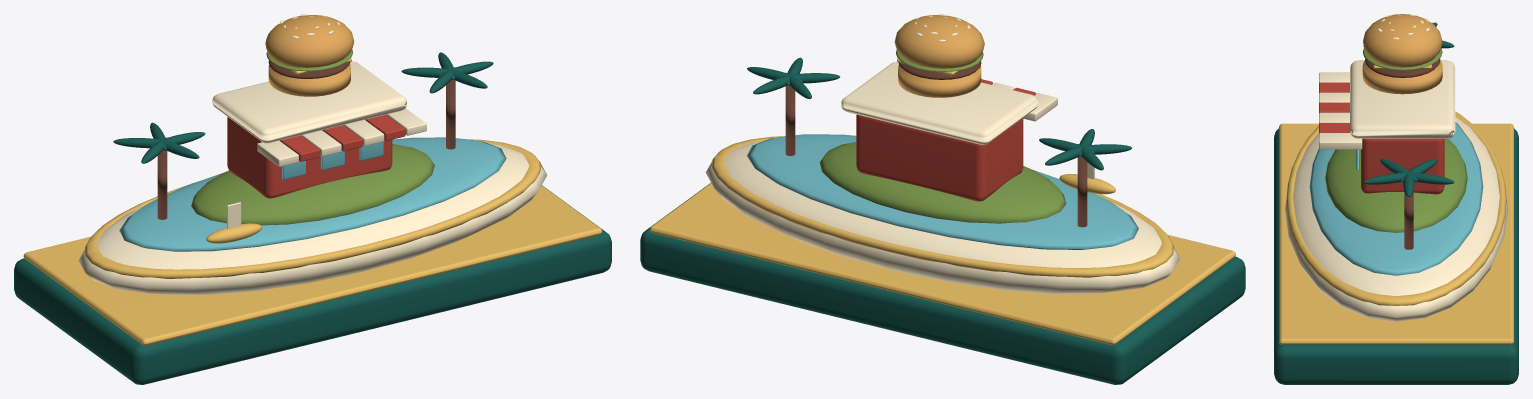
3 views of the same model, side by side, from view 1: azimuth 30°, elevation 25°; view 2: azimuth 150°, elevation 25°; view 3: azimuth 270°, elevation 25° (orthographic). The views are drawn at different scales.
Parts seen in each view (by area): view 1: Porcelain world platter, Jade footing, Brass welt, Island lagoon, Restaurant island, Tiny restaurant, Lower bun, Patty, Little boat; view 2: Jade footing, Porcelain world platter, Brass welt, Island lagoon, Tiny restaurant, Restaurant island, Lower bun, Patty, Little boat; view 3: Brass welt, Porcelain world platter, Jade footing, Island lagoon, Restaurant island, Lower bun, Tiny restaurant, Patty.
Boxes of the visible parts, x1,y1,x2,y2 form: Porcelain world platter: [78, 14, 547, 294]; Jade footing: [14, 52, 611, 384]; Brass welt: [23, 58, 602, 345]; Island lagoon: [119, 137, 506, 251]; Restaurant island: [191, 49, 434, 225]; Tiny restaurant: [227, 114, 405, 198]; Lower bun: [265, 15, 354, 96]; Patty: [157, 60, 455, 219]; Little boat: [206, 223, 261, 243]; Jade footing: [640, 57, 1245, 384]; Porcelain world platter: [705, 14, 1180, 293]; Brass welt: [650, 58, 1235, 345]; Island lagoon: [747, 134, 1138, 249]; Tiny restaurant: [856, 79, 1036, 201]; Restaurant island: [819, 49, 1066, 223]; Lower bun: [894, 15, 984, 97]; Patty: [785, 61, 1087, 227]; Little boat: [1059, 174, 1115, 194]; Brass welt: [1279, 64, 1513, 344]; Porcelain world platter: [1285, 14, 1507, 321]; Jade footing: [1274, 22, 1518, 384]; Island lagoon: [1309, 122, 1483, 275]; Restaurant island: [1325, 47, 1467, 232]; Lower bun: [1362, 14, 1442, 94]; Tiny restaurant: [1319, 82, 1444, 194]; Patty: [1365, 58, 1440, 249].
Size of the model in its own units: 1.73 by 0.9044 by 0.79.
